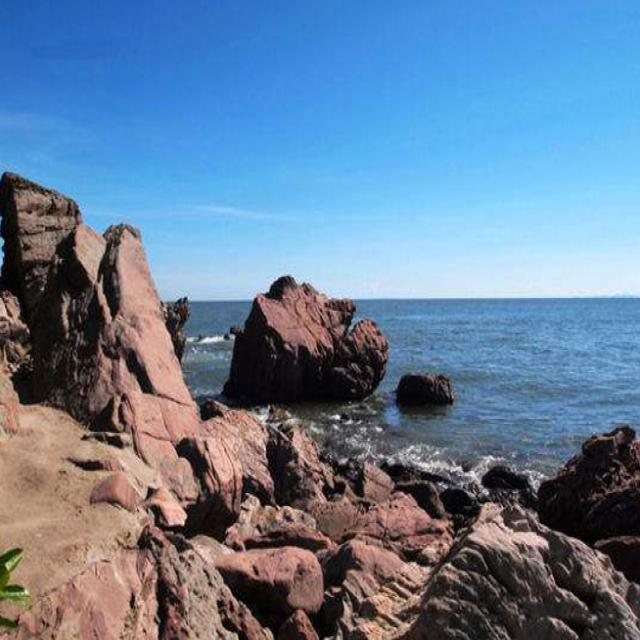reef: (197, 242, 639, 616)
